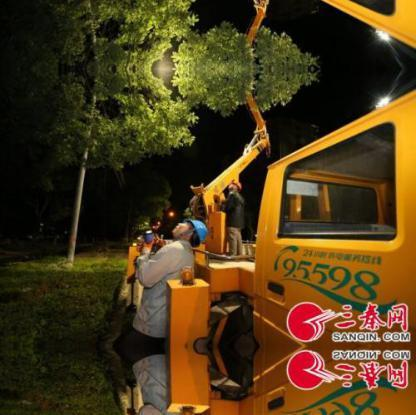Helmet: (173, 218, 210, 244), (226, 179, 245, 195)
